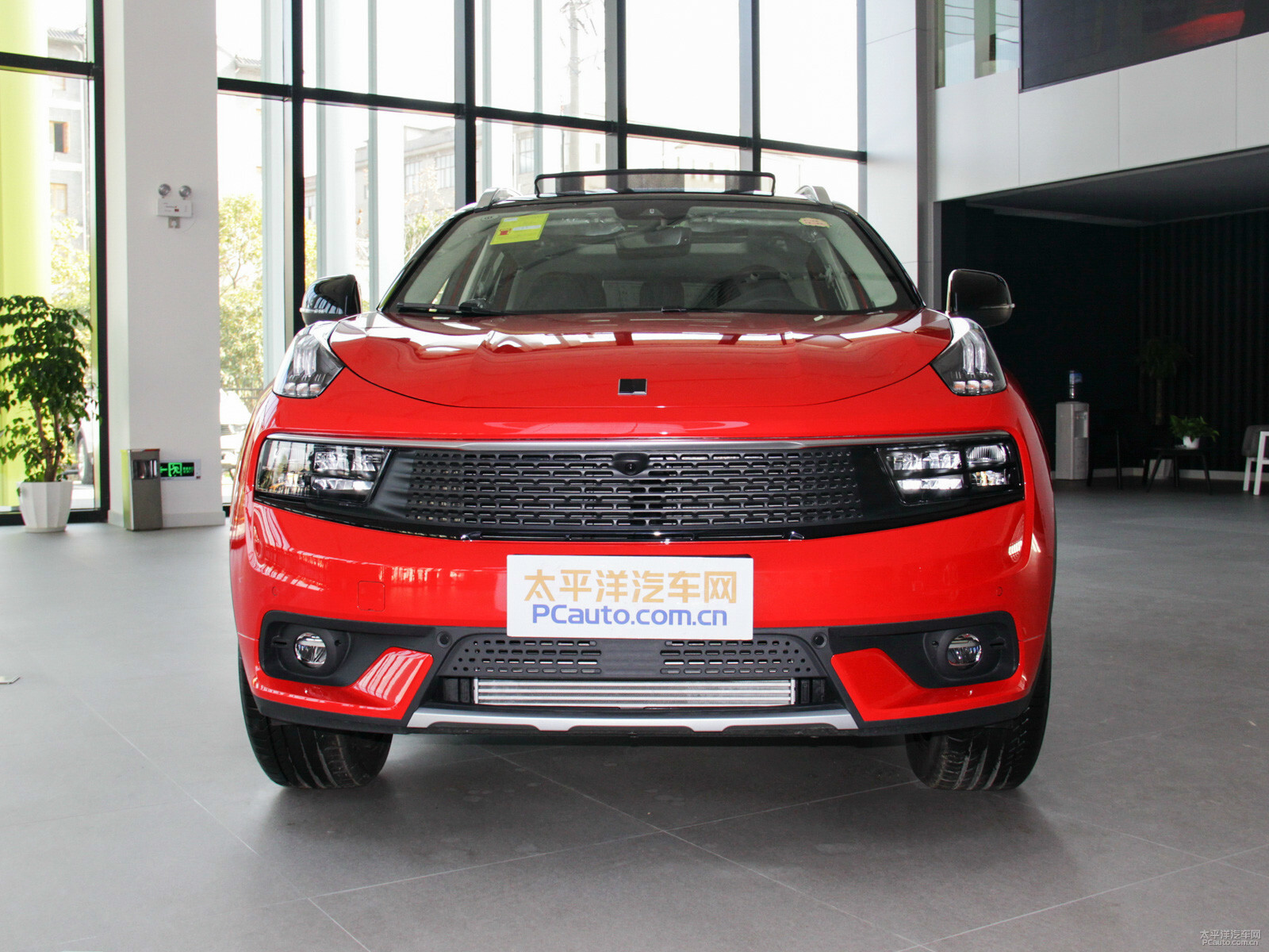LINK&CO: (619, 378, 646, 394)
